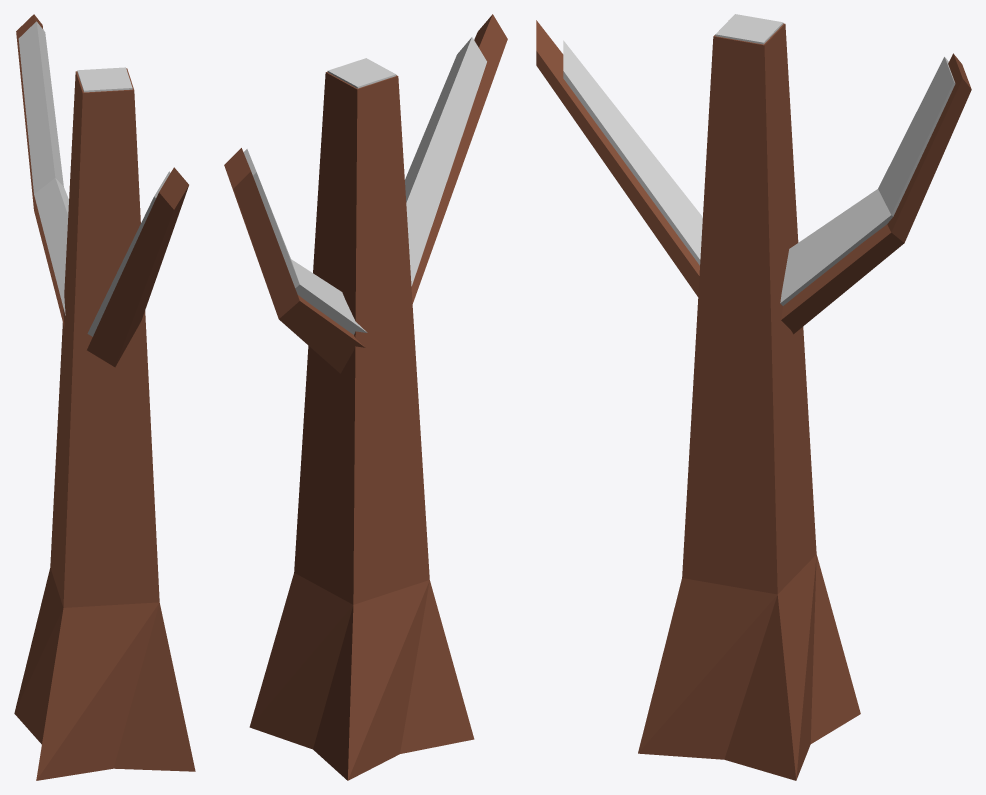
The model's file is Tree_37_winter_mat.fbx.
The picture shows the model from 3 angles, left to right: view 1: azimuth 30°, elevation 25°; view 2: azimuth 150°, elevation 25°; view 3: azimuth 270°, elevation 25°; orthographic projection. The views are drawn at different scales.
Parts seen in each view (by area): view 1: Tree_37_winter_mat; view 2: Tree_37_winter_mat; view 3: Tree_37_winter_mat.
Part boxes in pixels (x1,y1,x2,y2): Tree_37_winter_mat: [14, 14, 195, 780]; Tree_37_winter_mat: [224, 14, 507, 780]; Tree_37_winter_mat: [536, 14, 971, 780].
Bounding box in the file's own units: 1.84 × 6.43 × 3.6.
